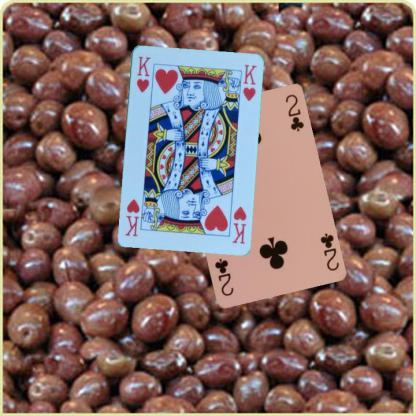2c: (318, 230, 340, 272)
Kh: (229, 204, 248, 244), (134, 53, 152, 94)
